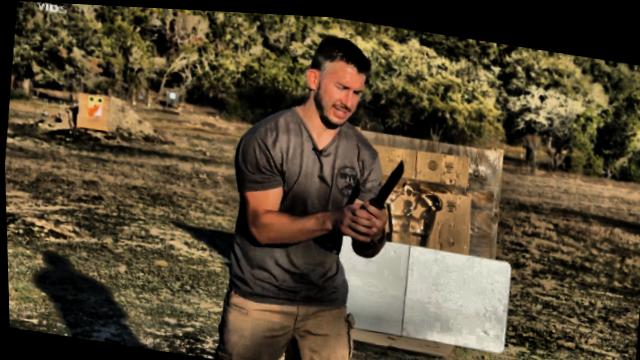knife: (347, 139, 416, 232)
